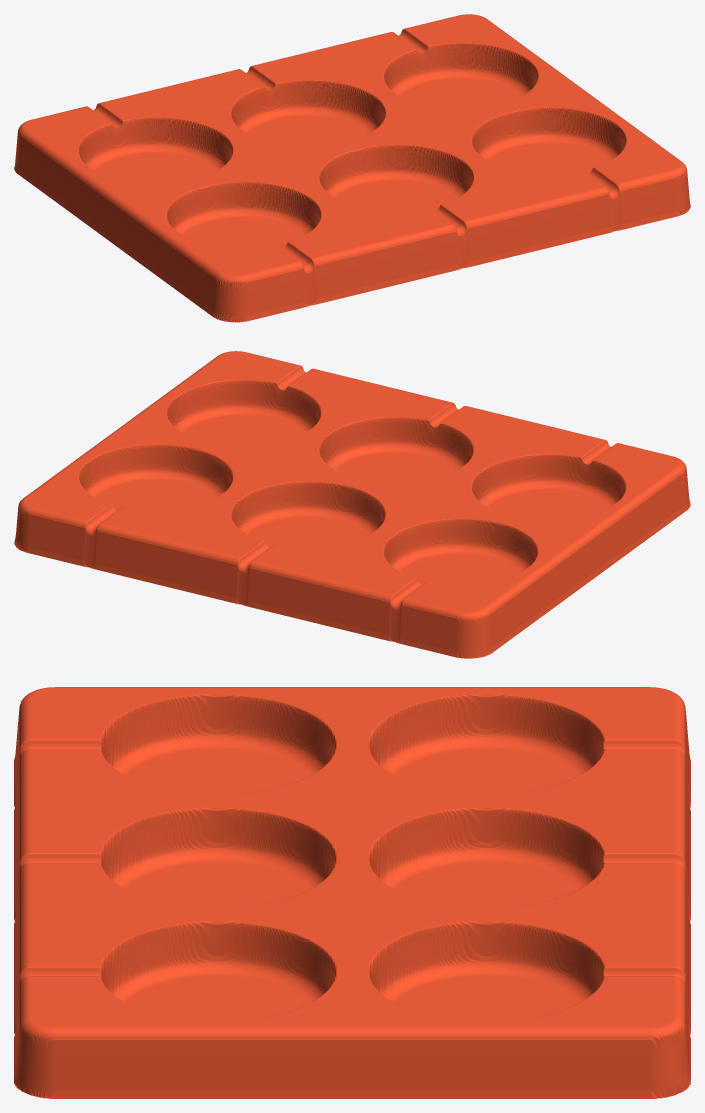
Rendered from mold.glb.
3 views of the same model, one above another, from view 1: azimuth 30°, elevation 25°; view 2: azimuth 150°, elevation 25°; view 3: azimuth 270°, elevation 25° (orthographic). The views are drawn at different scales.
Visible parts, largest first — view 1: geometry_0; view 2: geometry_0; view 3: geometry_0.
Part boxes in pixels (x1,y1,x2,y2): geometry_0: (14, 14, 690, 322); geometry_0: (14, 351, 690, 658); geometry_0: (14, 687, 690, 1098).
Size of the model in its own units: 0.1824 by 0.0155 by 0.1477.
